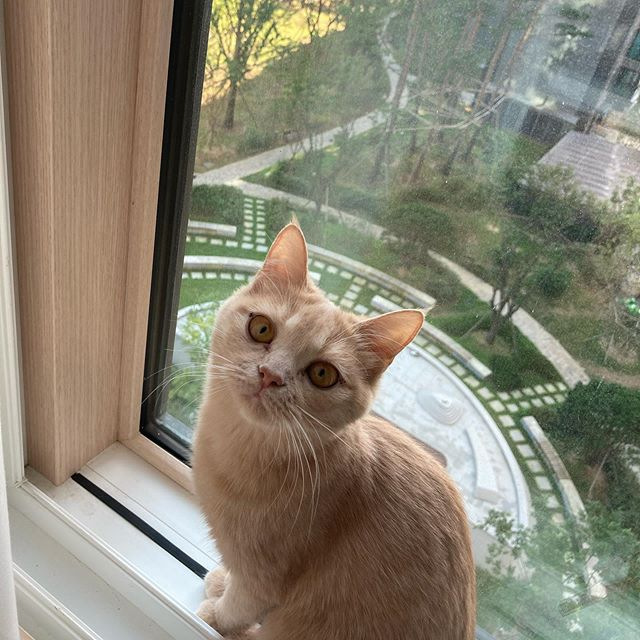cat: (200, 217, 427, 443)
